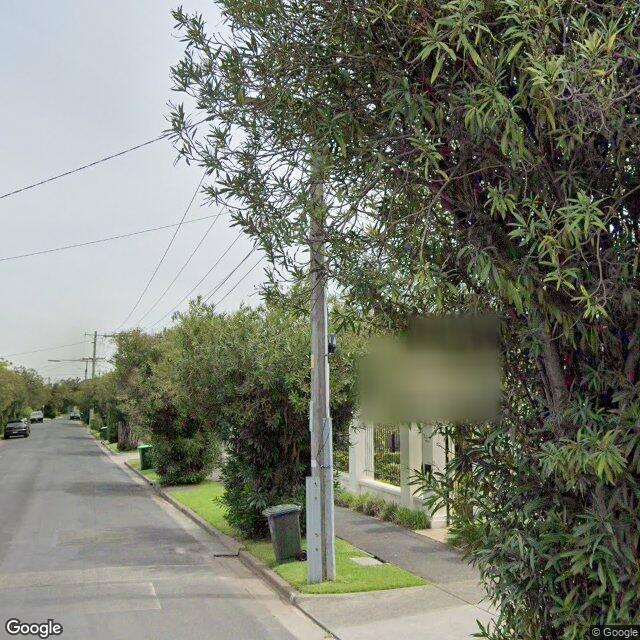crossarm: (103, 334, 134, 337), (80, 358, 104, 361), (85, 334, 103, 337)
streetlight: (48, 360, 81, 362)
timber-pole: (310, 160, 330, 582), (90, 331, 97, 425), (85, 358, 88, 382)
